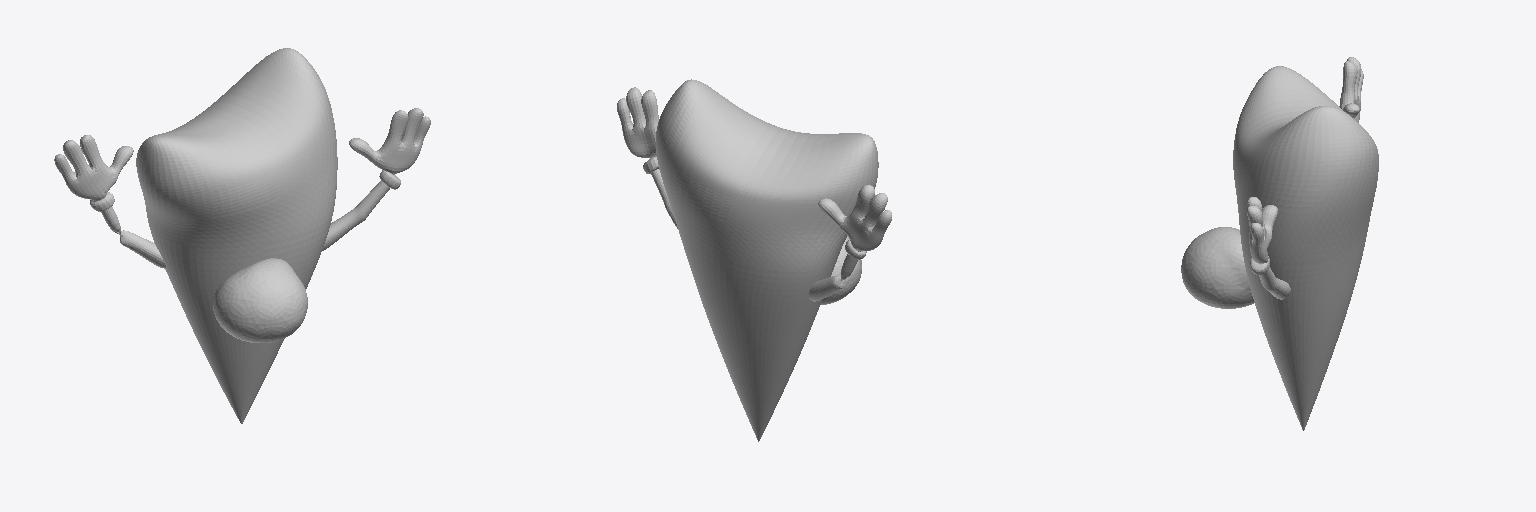
Rendered from java-duke3.obj.
The picture shows the model from 3 angles: view 1: azimuth 30°, elevation 25°; view 2: azimuth 150°, elevation 25°; view 3: azimuth 270°, elevation 25°; orthographic projection.
Visible parts, largest first — view 1: javadude, javadude_hands, javadude_nase; view 2: javadude, javadude_hands, javadude_nase; view 3: javadude, javadude_nase, javadude_hands.
Part boxes in pixels (bbox=[...]): javadude: bbox=[136, 48, 337, 423]; javadude_hands: bbox=[54, 108, 430, 268]; javadude_nase: bbox=[213, 258, 307, 342]; javadude: bbox=[656, 79, 878, 441]; javadude_hands: bbox=[617, 87, 891, 301]; javadude_nase: bbox=[821, 236, 861, 304]; javadude: bbox=[1233, 66, 1378, 430]; javadude_nase: bbox=[1181, 227, 1254, 308]; javadude_hands: bbox=[1247, 57, 1363, 299].
Bounding box in the file's own units: 3.97 × 4.12 × 2.09.